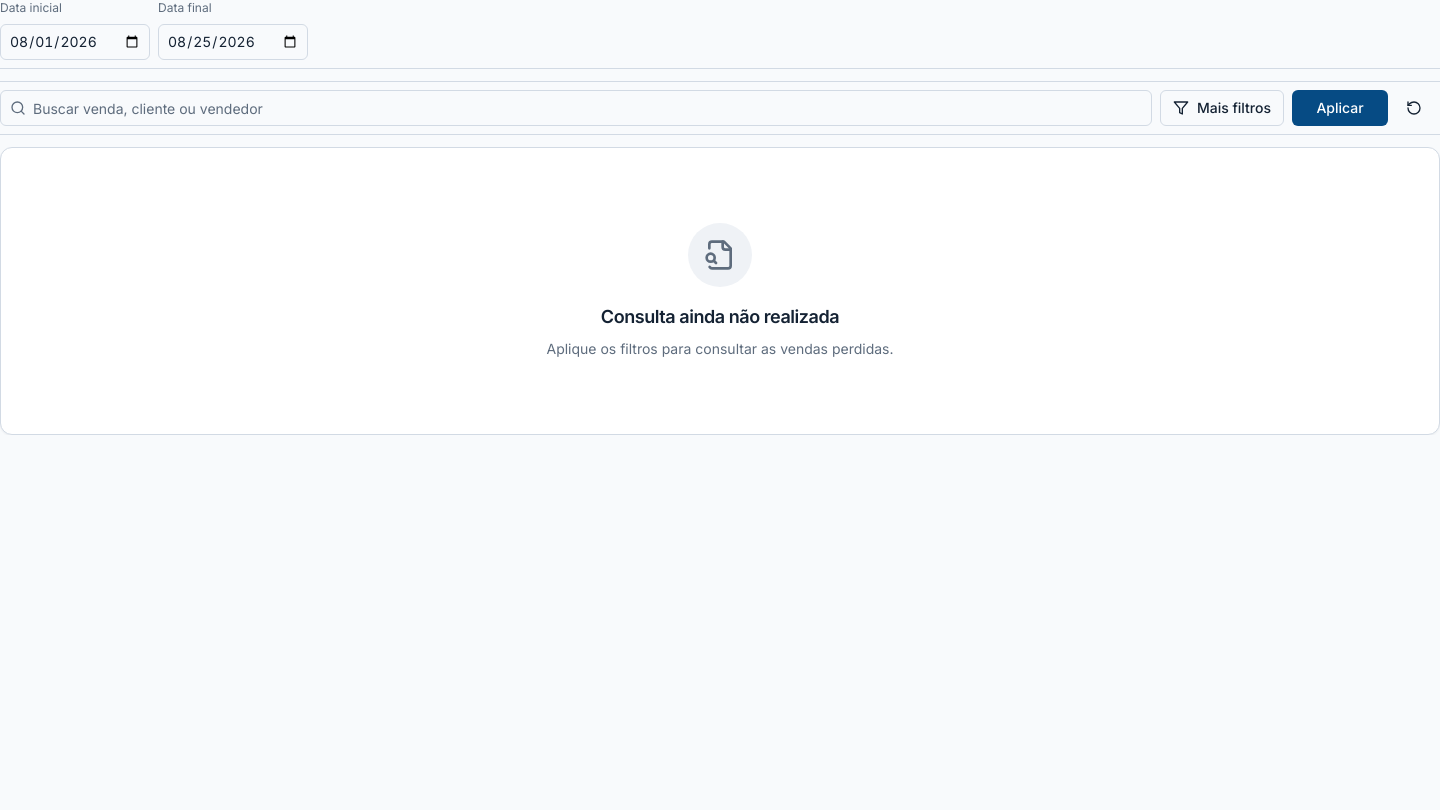
Test: lost sales page › preloads an existing reason from the joined row when editing
Click the button "Aplicar" at (1340, 108), box x1=1292 y1=90 x2=1388 y2=126
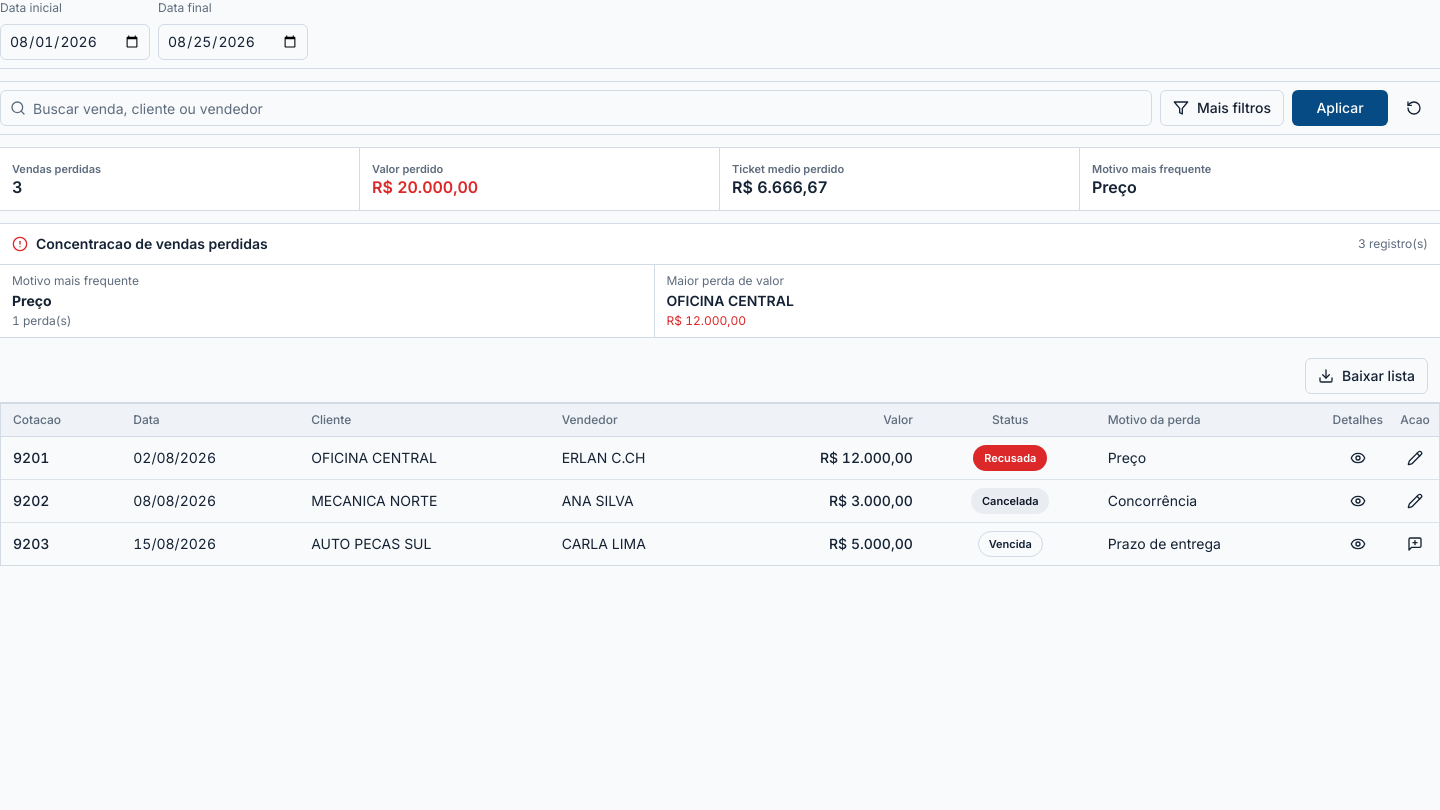
Click the button named "Editar motivo da perda" in the row of "9201" at (1415, 458), box x1=1399 y1=442 x2=1431 y2=474
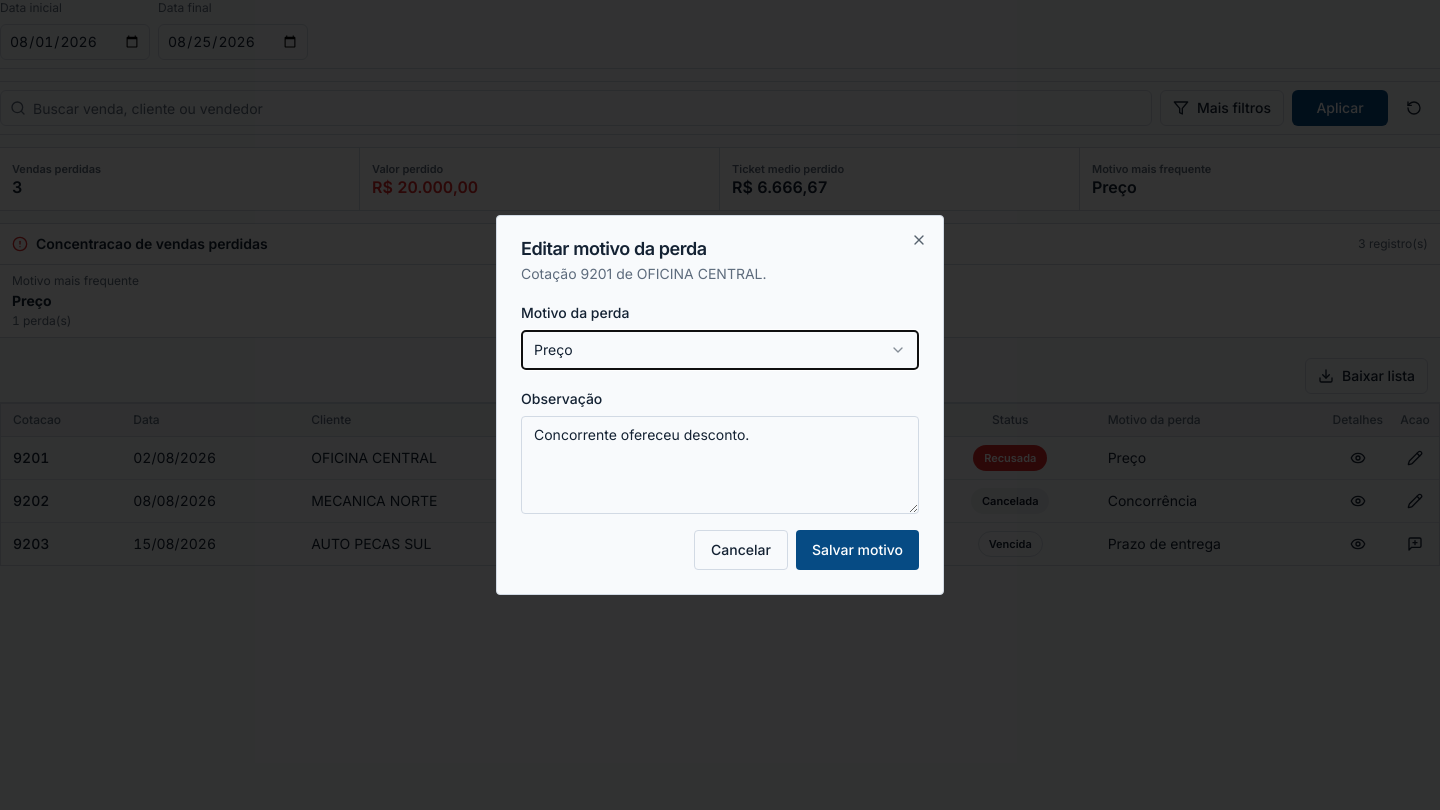
Now the dialog is shown, box x1=496 y1=215 x2=944 y2=595
Now the dropdown named "Motivo da perda" reads "Preço", box x1=521 y1=330 x2=919 y2=370
Now the text box labelled "Observação" holds "Concorrente ofereceu desconto.", box x1=521 y1=416 x2=919 y2=514
